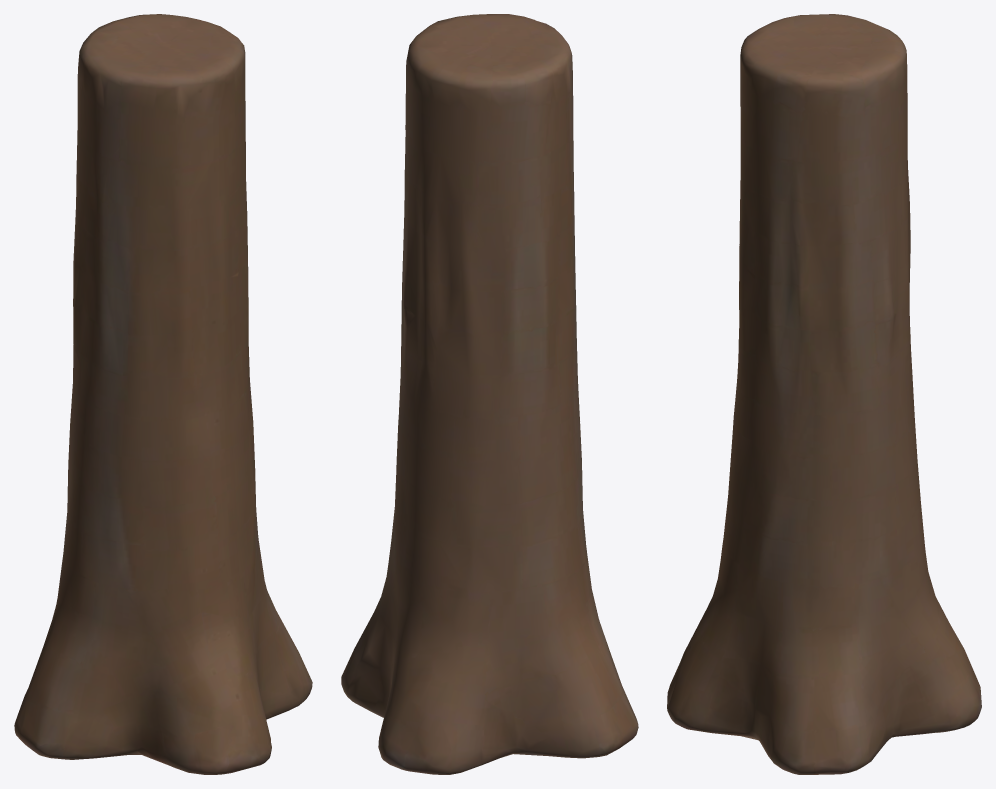
The model's file is Log_Tiered_Evergreen.glb.
The picture shows the model from 3 angles, left to right: view 1: azimuth 30°, elevation 25°; view 2: azimuth 150°, elevation 25°; view 3: azimuth 270°, elevation 25°; orthographic projection.
Size of the model in its own units: 0.857 by 2 by 0.8543.
1 material, 1 textured.
